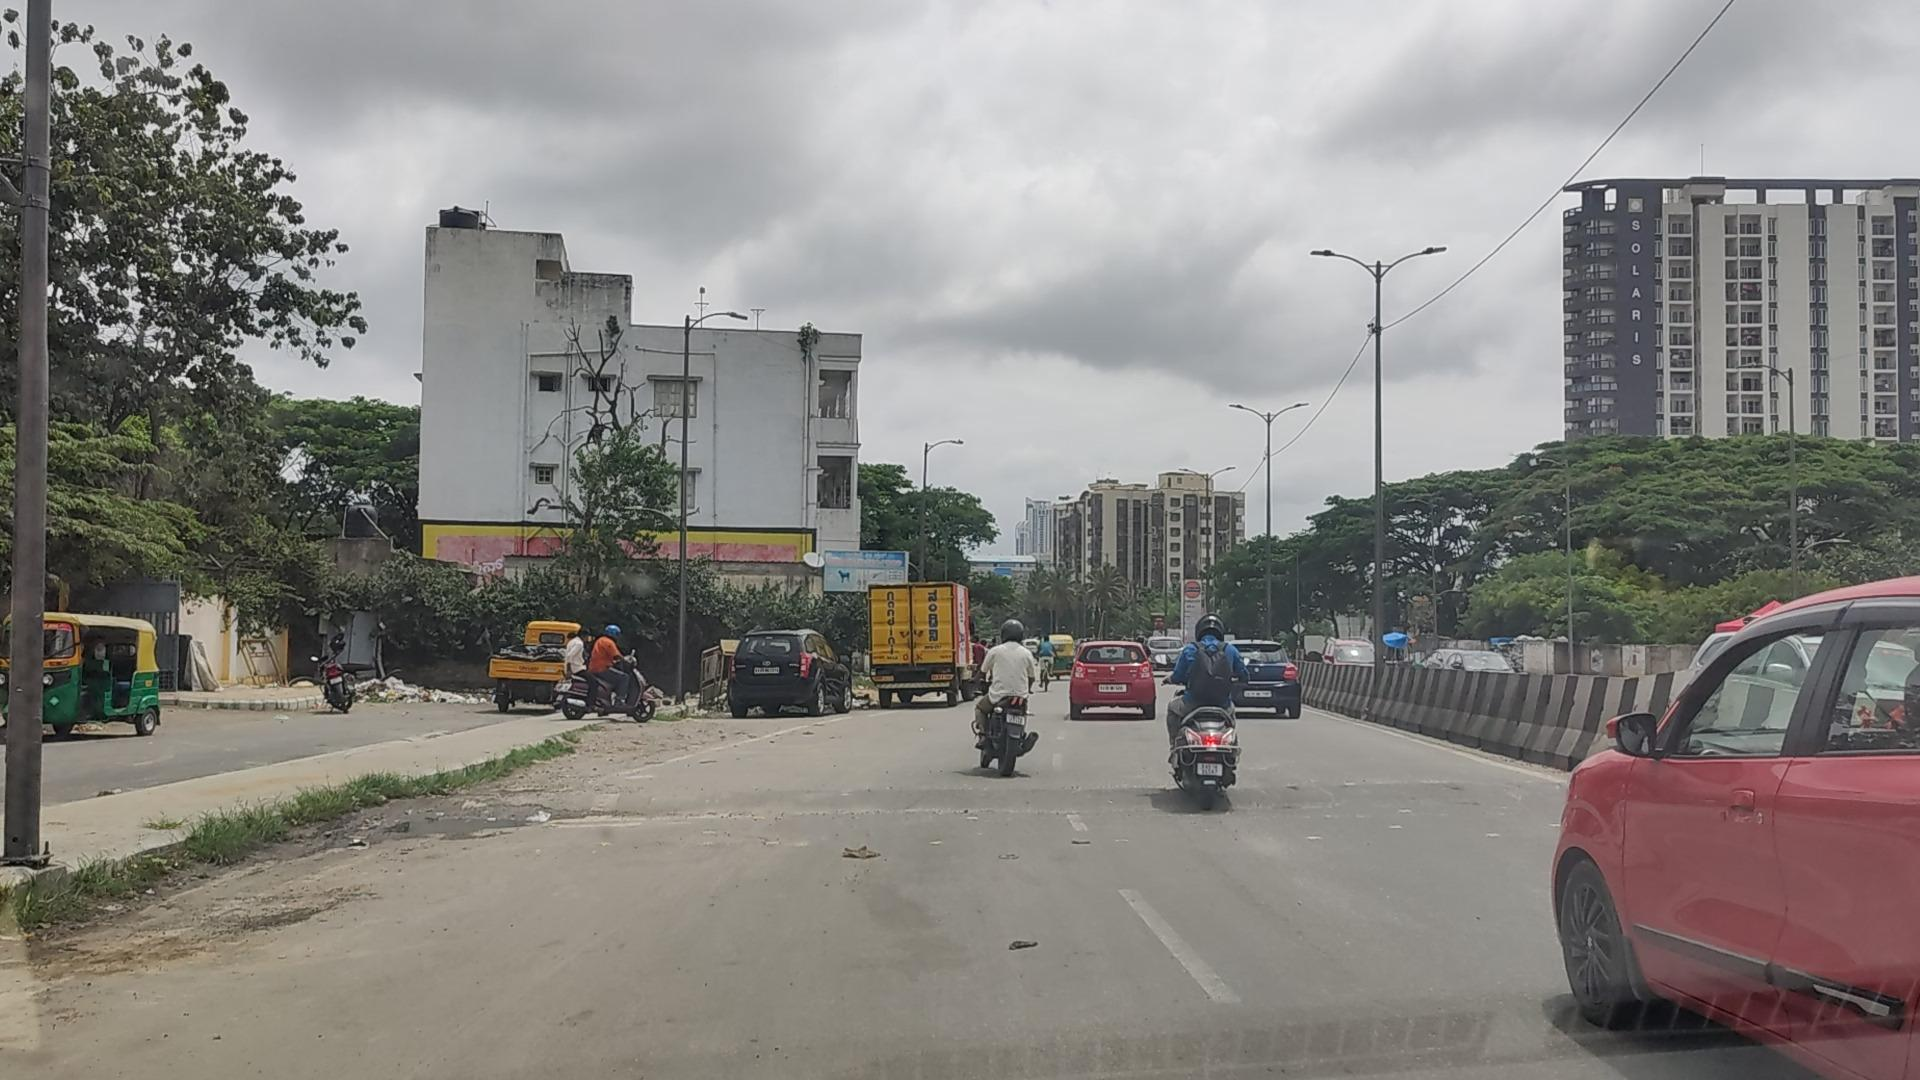HMV: (872, 582, 967, 698)
LMV: (1164, 622, 1238, 782), (982, 622, 1034, 764), (1072, 645, 1154, 715)
RoadDamages: (84, 872, 361, 992), (375, 779, 574, 858)
SpeedBump: (560, 765, 1572, 812)
